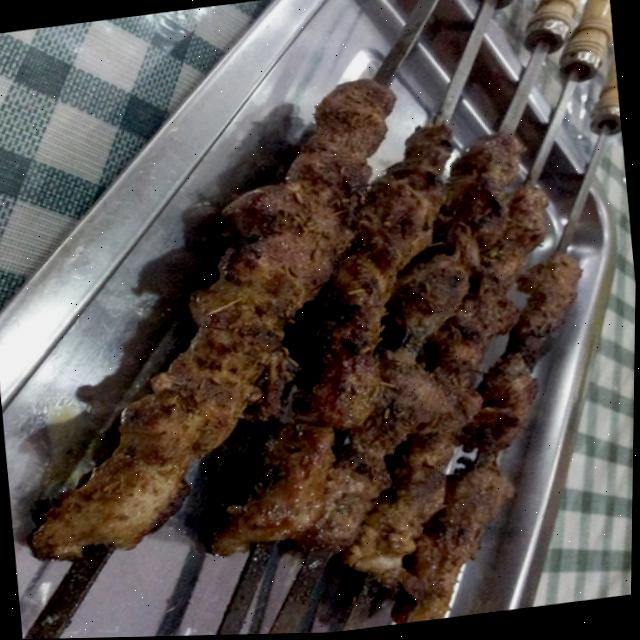烧串烤肉: (0, 18, 630, 640)
